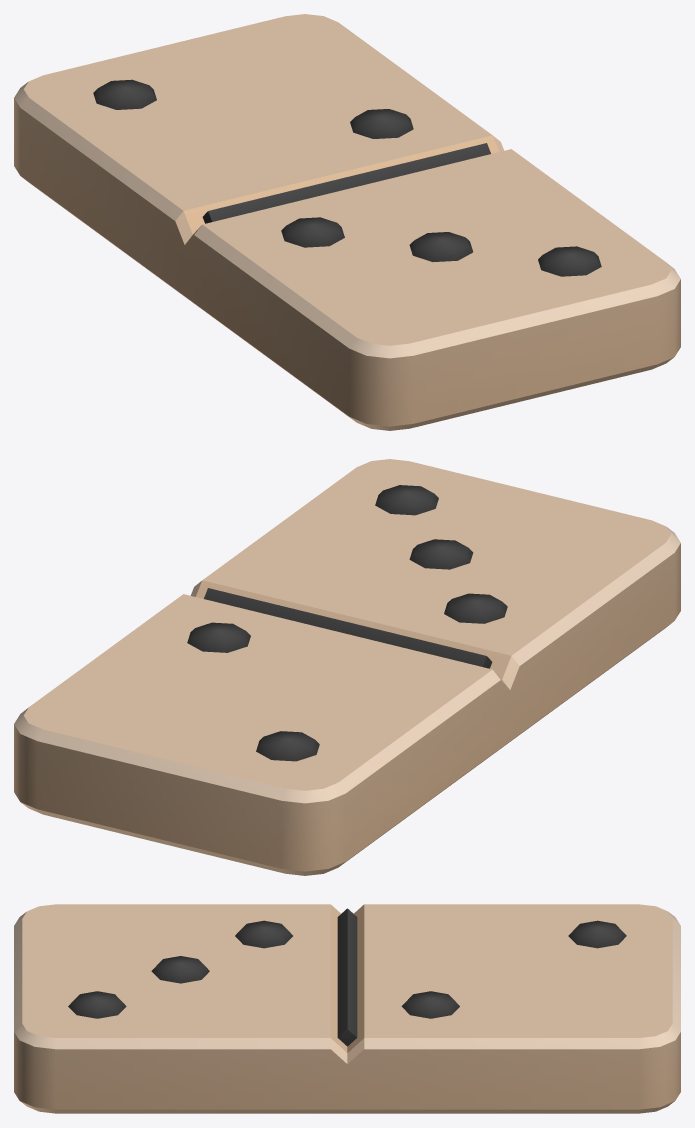
The model's file is domino_tile_2-3.obj.
3 renders of one model, top to bottom at view 1: azimuth 30°, elevation 25°; view 2: azimuth 150°, elevation 25°; view 3: azimuth 270°, elevation 25°, orthographic. The views are drawn at different scales.
Visible parts, largest first — view 1: domino_tile_2-3; view 2: domino_tile_2-3; view 3: domino_tile_2-3.
Boxes of the visible parts, bbox=[...] form: domino_tile_2-3: bbox=[14, 14, 680, 430]; domino_tile_2-3: bbox=[14, 459, 680, 875]; domino_tile_2-3: bbox=[14, 904, 680, 1113].
Bounding box in the file's own units: 1 × 0.2767 × 2.
Materials: 1 (1 with a texture image).
